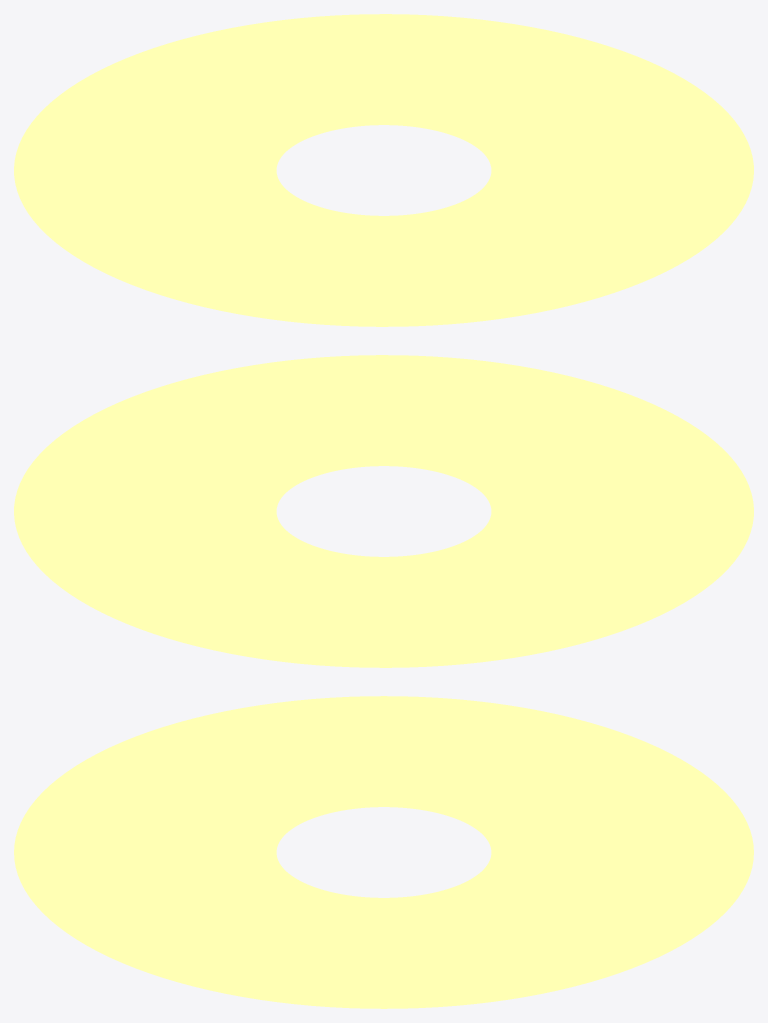
The model's file is mwm_lakeflow_b.glb.
The picture shows the model from 3 angles, top to bottom: view 1: azimuth 30°, elevation 25°; view 2: azimuth 150°, elevation 25°; view 3: azimuth 270°, elevation 25°; orthographic projection.
Bounding box in the file's own units: 744 × 0 × 744.
1 material, 1 textured.
